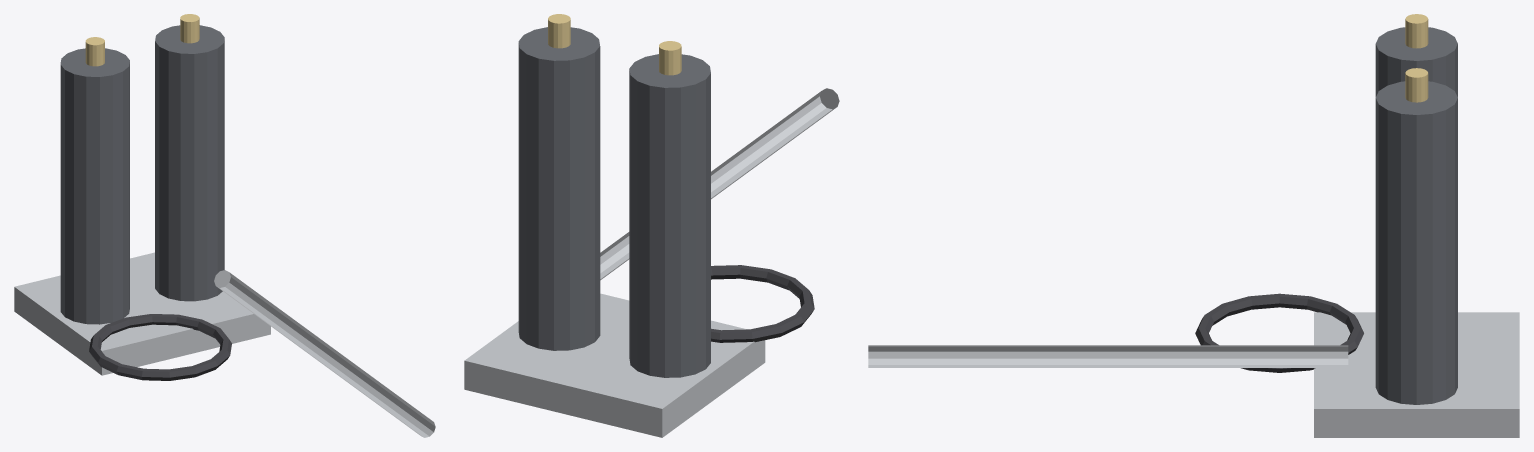
File: bank-vault-heist-kit-thermal-lance-kit-64446d80__25117.glb
3 renders of one model, left to right at view 1: azimuth 30°, elevation 25°; view 2: azimuth 150°, elevation 25°; view 3: azimuth 270°, elevation 25°, orthographic. The views are drawn at different scales.
Parts seen in each view (by area): view 1: thermal-lance-kit; view 2: thermal-lance-kit; view 3: thermal-lance-kit.
Boxes of the visible parts, left/top/right/bottom form: thermal-lance-kit: left=14, top=14, right=435, bottom=437; thermal-lance-kit: left=464, top=14, right=839, bottom=437; thermal-lance-kit: left=868, top=14, right=1519, bottom=437.
Bounding box in the file's own units: 0.555 × 0.83 × 1.43.
